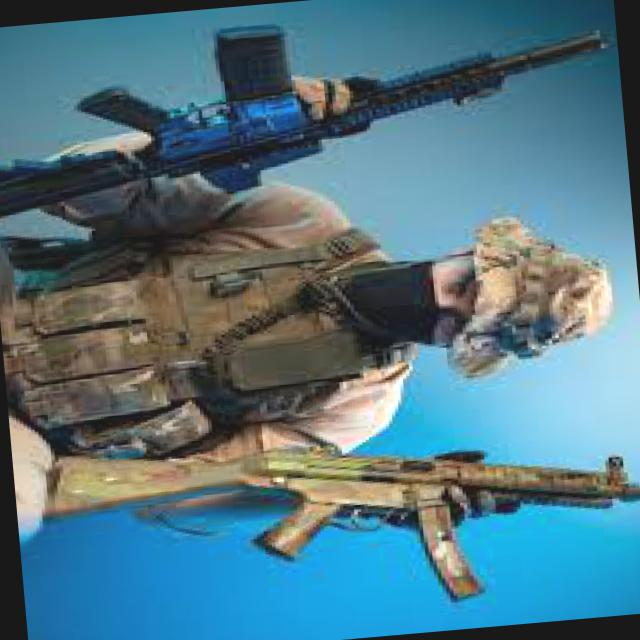long weapon: (0, 0, 615, 235), (40, 389, 639, 617)
